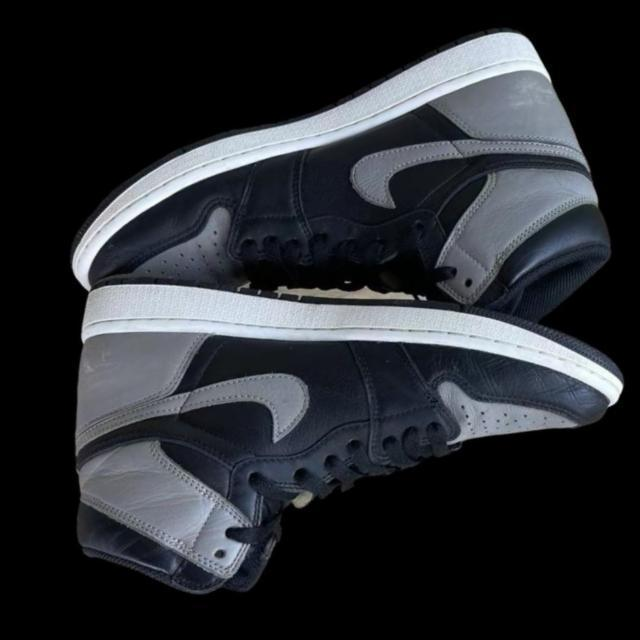nike original jordan 1: (0, 46, 640, 640), (40, 0, 640, 494)
